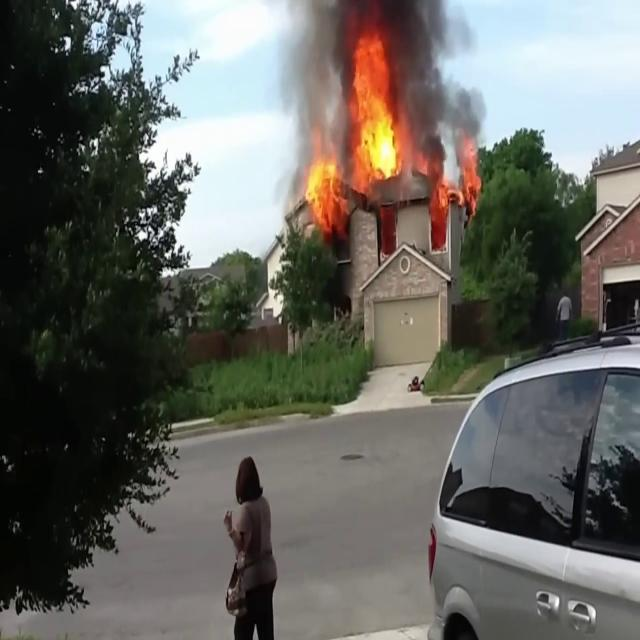Fire: (343, 30, 407, 186), (295, 149, 343, 234), (458, 136, 482, 216)
Smoke: (280, 0, 482, 156)
